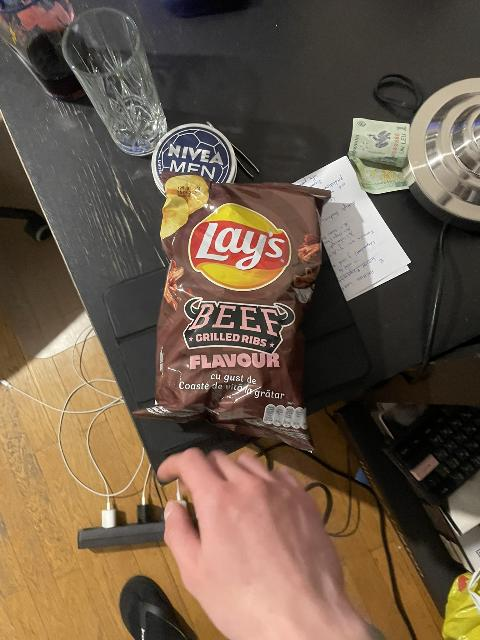Lays Beef Grilled Ribs 125g: (132, 175, 335, 453)
